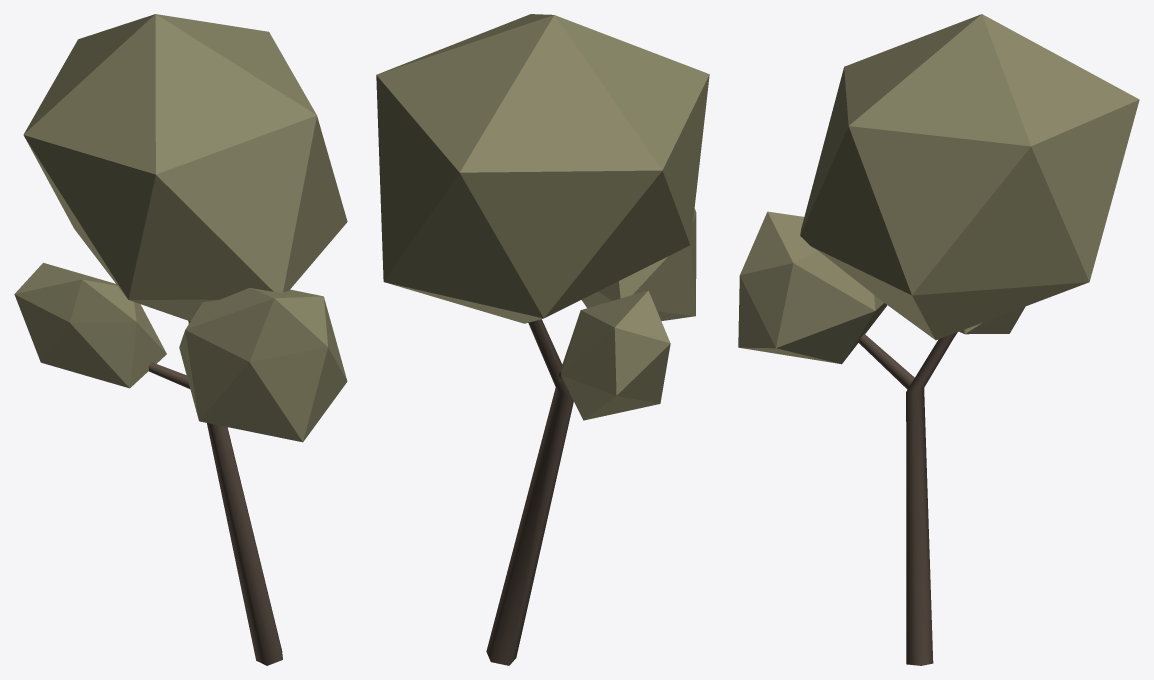
Rendered from Tree_3.fbx.
The picture shows the model from 3 angles, left to right: view 1: azimuth 30°, elevation 25°; view 2: azimuth 150°, elevation 25°; view 3: azimuth 270°, elevation 25°; orthographic projection. The views are drawn at different scales.
Visible parts, largest first — view 1: Tree17; view 2: Tree17; view 3: Tree17.
Part boxes in pixels (x1,y1,x2,y2): Tree17: (14,14,347,665); Tree17: (376,14,709,665); Tree17: (738,14,1139,665).
Bounding box in the file's own units: 312 × 685 × 406.
